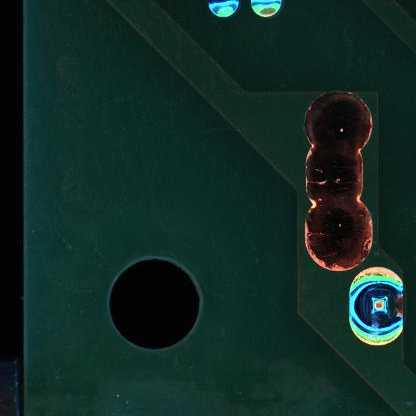spot: (349, 265, 403, 346)
